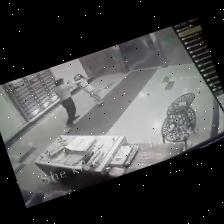person: (55, 78, 79, 125), (69, 74, 104, 106)
